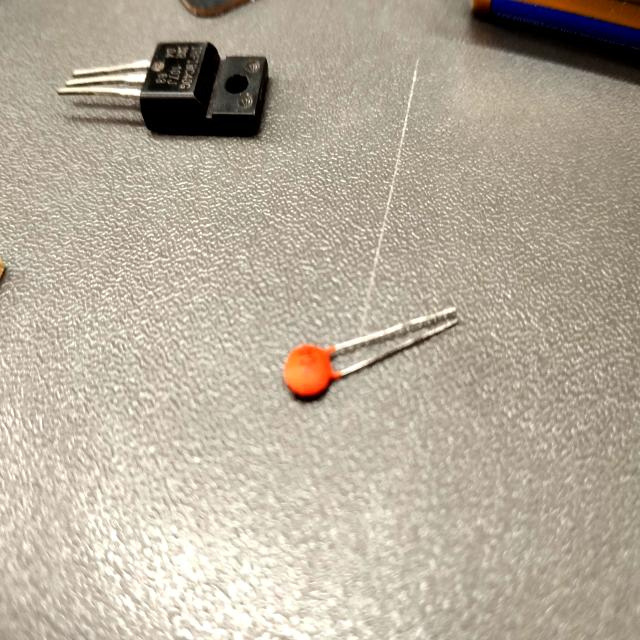capacitor: (281, 317, 435, 404)
